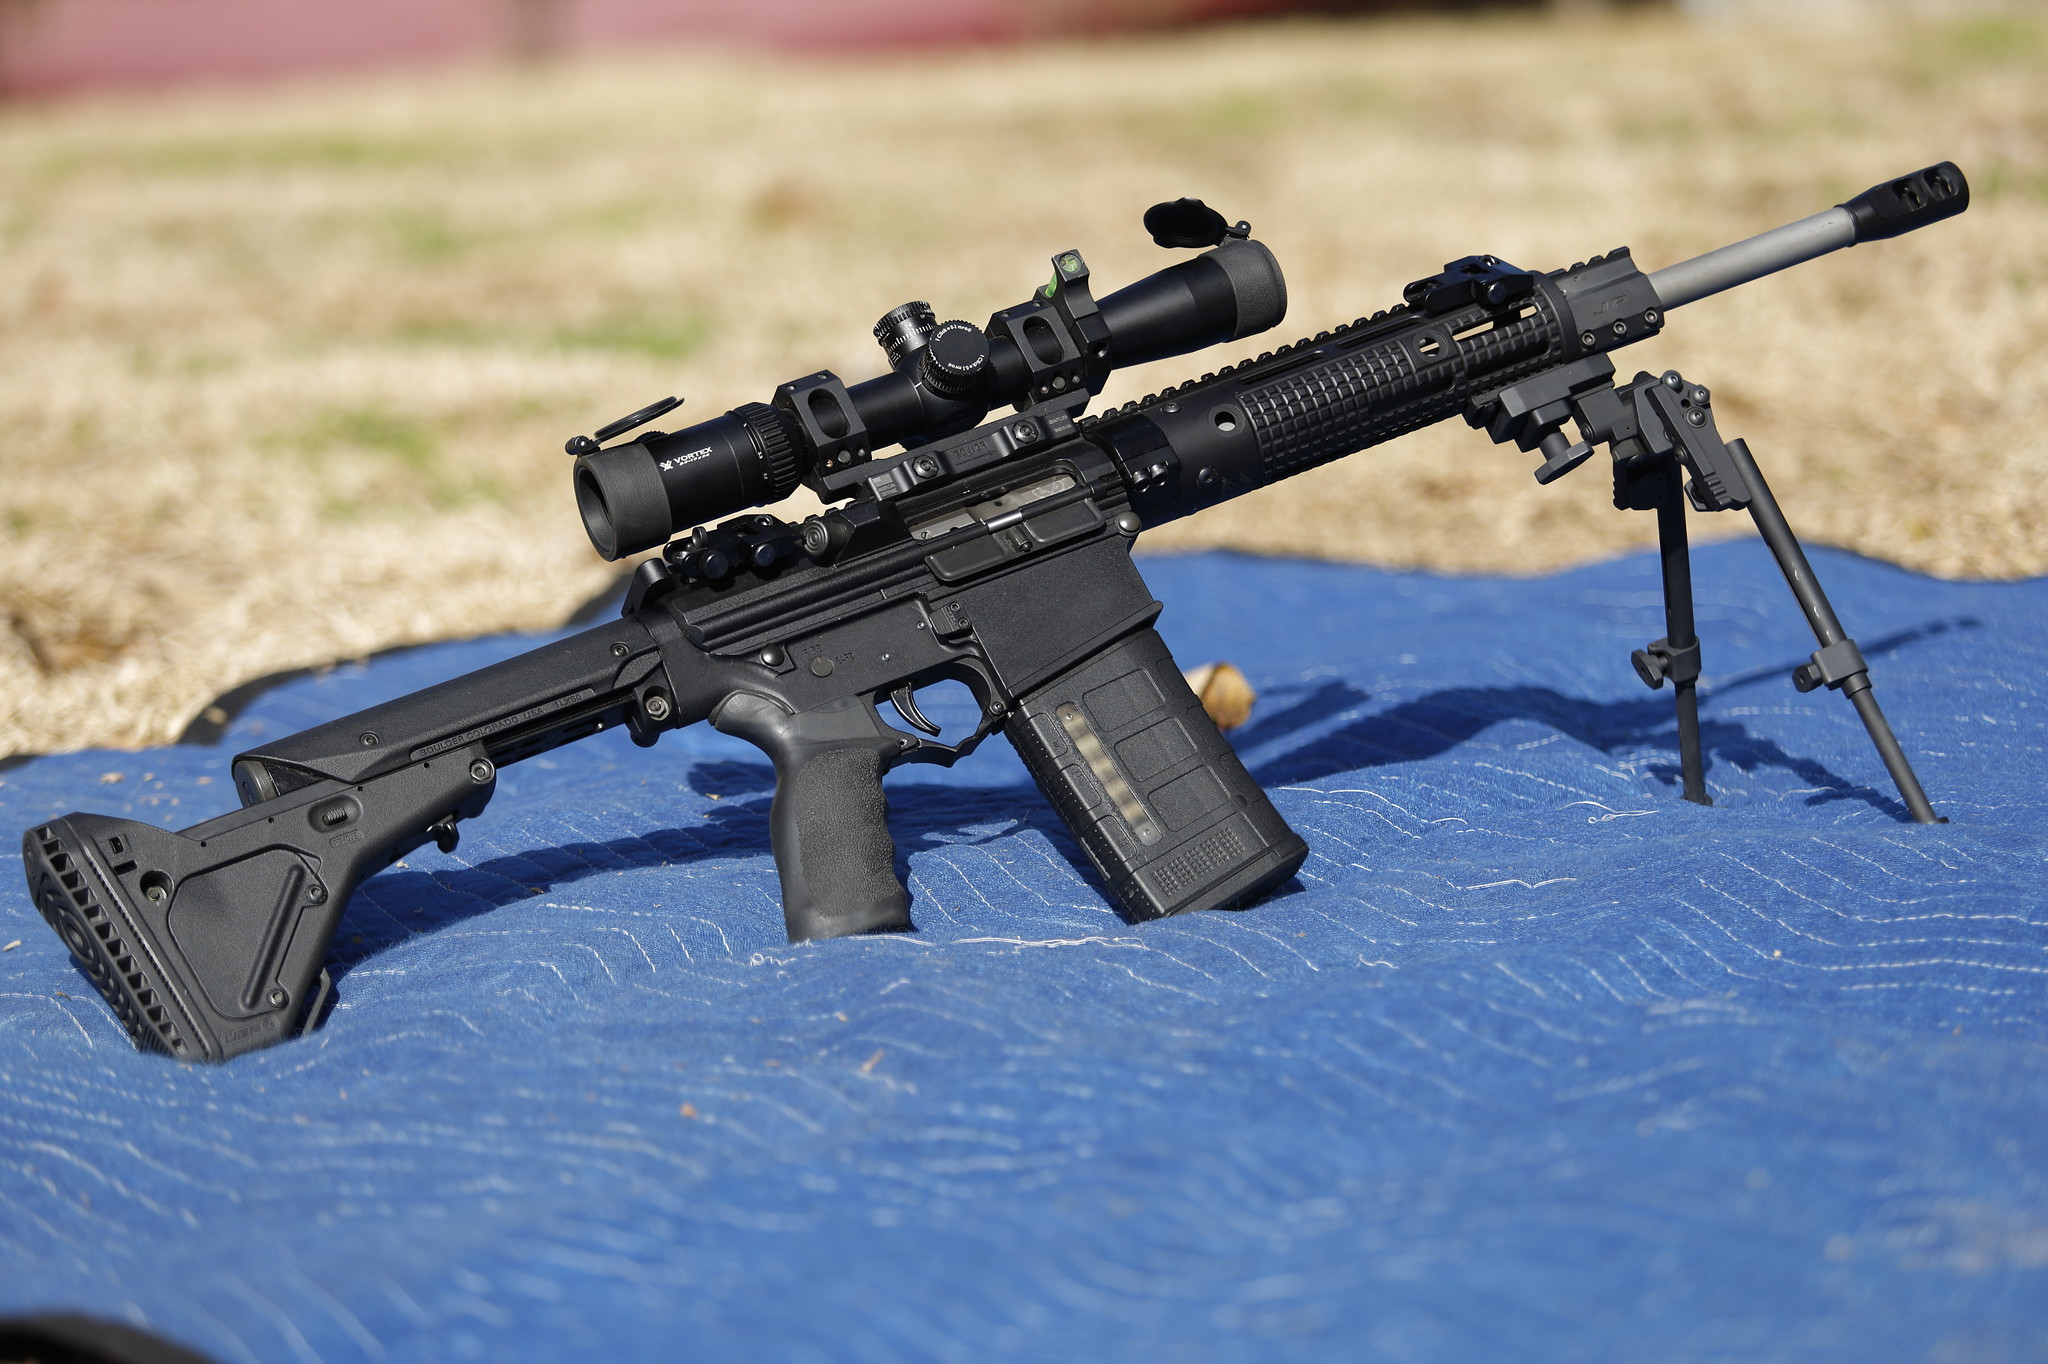gun: (20, 126, 1992, 1073)
